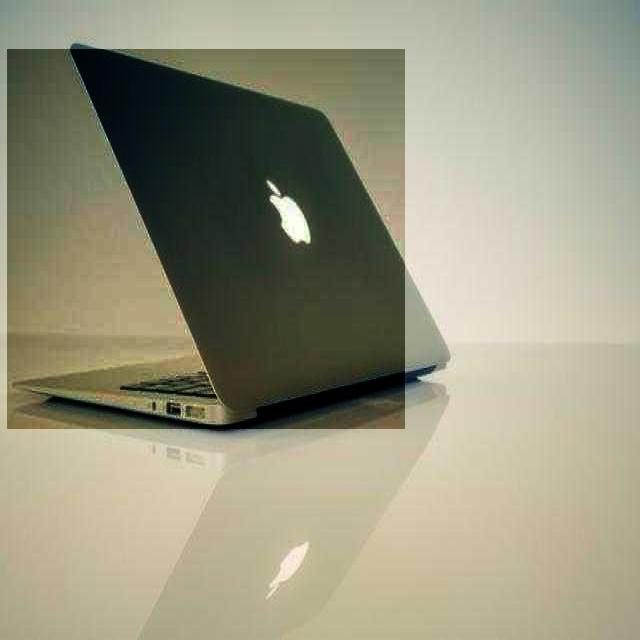-keyboard-: (7, 49, 405, 430)
